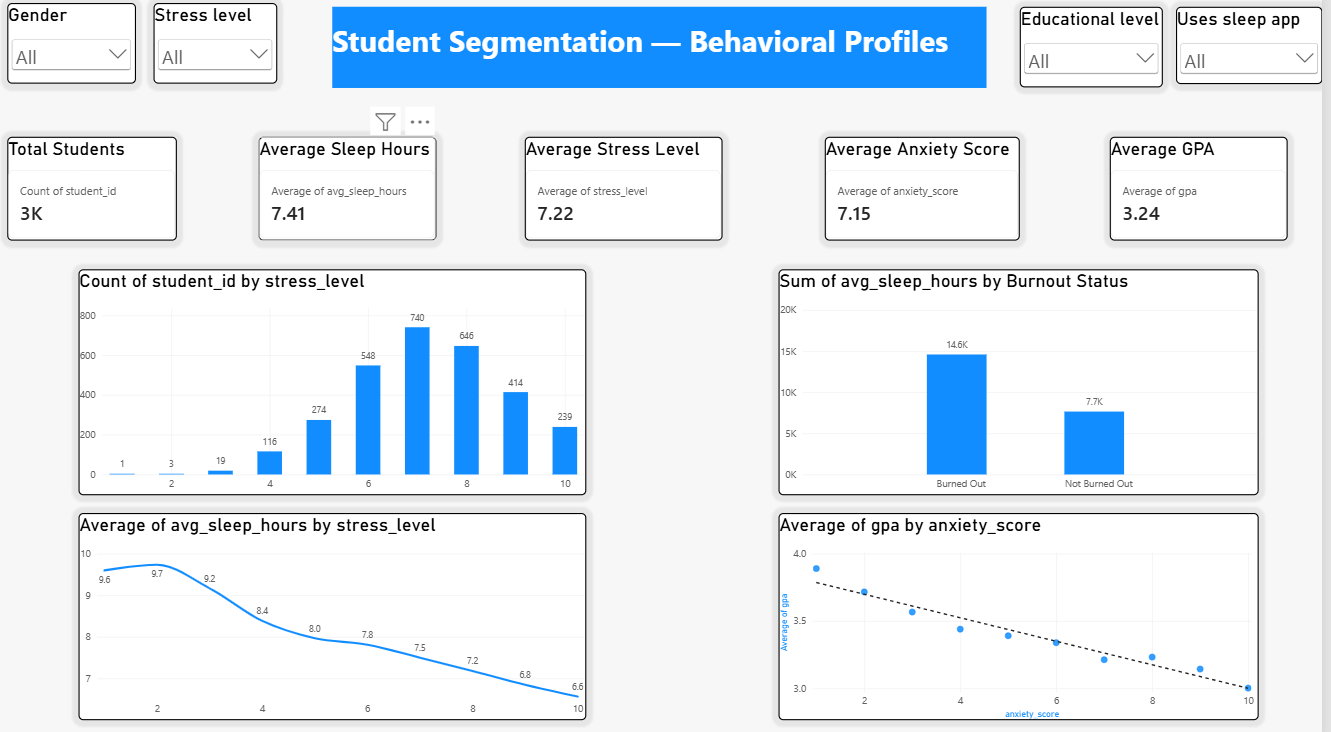

The page's visual inventory and layout, read from the dashboard file:
{"tool":"powerbi","page":{"name":"Student Segmentation","canvas":[1920,1080],"ordinal":4},"visuals":[{"type":"textbox","box":[487.5,20,947.5,117.5],"z":0},{"type":"slicer","title":"Gender","fields":{"Values":["student_sleep.gender","student_sleep.education_level"]},"box":[16.7,14.3,186.1,116.9],"z":1000},{"type":"slicer","title":"Stress level","fields":{"Values":["student_sleep.stress_level","student_sleep.uses_sleep_app"]},"box":[227.5,15,178.9,116.9],"z":2000},{"type":"slicer","title":"Educational level","fields":{"Values":["student_sleep.education_level"]},"box":[1482.5,20,207.6,116.9],"z":3000},{"type":"slicer","title":"Uses sleep app","fields":{"Values":["student_sleep.uses_sleep_app"]},"box":[1707.7,19.1,212.3,112.1],"z":4000},{"type":"cardVisual","title":"Average Stress Level","fields":{"Data":["Avg(student_sleep.stress_level)"]},"box":[765.9,207.6,286.3,150.3],"z":5000},{"type":"cardVisual","title":"Total Students","fields":{"Data":["CountNonNull(student_sleep.student_id)"]},"box":[16.7,207.6,245.7,150.3],"z":6000},{"type":"cardVisual","title":"Average Sleep Hours","fields":{"Data":["Avg(student_sleep.avg_sleep_hours)"]},"box":[380,207.5,257.5,150],"z":7000},{"type":"cardVisual","title":"Average Anxiety Score","fields":{"Data":["Avg(student_sleep.anxiety_score)"]},"box":[1200,207.5,282.5,150],"z":8000},{"type":"cardVisual","title":"Average GPA","fields":{"Data":["Avg(student_sleep.gpa)"]},"box":[1612.5,207.5,257.5,150],"z":9000},{"type":"clusteredColumnChart","fields":{"Category":["student_sleep.stress_level"],"Y":["CountNonNull(student_sleep.student_id)"]},"box":[120,400,735,327.5],"z":10000},{"type":"clusteredColumnChart","fields":{"Category":["student_sleep.Burnout Status"],"Y":["Sum(student_sleep.avg_sleep_hours)"]},"box":[1132.5,400,695,327.5],"z":11000},{"type":"lineChart","fields":{"Category":["student_sleep.stress_level"],"Y":["Avg(student_sleep.avg_sleep_hours)"]},"box":[120,752.5,735,300],"z":12000},{"type":"scatterChart","fields":{"X":["student_sleep.anxiety_score"],"Y":["Avg(student_sleep.gpa)"]},"box":[1132.5,752.5,695,300],"z":13000}]}

Visuals, with their boxes in screenshot pixels (x1, y1, x2, y2), scaled from the page's 1920x1080 canvas onto the 1331x732 screenshot:
textbox: bbox=[338, 14, 995, 93]
"Gender" slicer: bbox=[12, 10, 141, 89]
"Stress level" slicer: bbox=[158, 10, 282, 89]
"Educational level" slicer: bbox=[1028, 14, 1172, 93]
"Uses sleep app" slicer: bbox=[1184, 13, 1330, 89]
"Average Stress Level" cardVisual: bbox=[531, 141, 729, 243]
"Total Students" cardVisual: bbox=[12, 141, 182, 243]
"Average Sleep Hours" cardVisual: bbox=[263, 141, 442, 242]
"Average Anxiety Score" cardVisual: bbox=[832, 141, 1028, 242]
"Average GPA" cardVisual: bbox=[1118, 141, 1296, 242]
clusteredColumnChart - student_sleep.stress_level x CountNonNull(student_sleep.student_id): bbox=[83, 271, 593, 493]
clusteredColumnChart - student_sleep.Burnout Status x Sum(student_sleep.avg_sleep_hours): bbox=[785, 271, 1267, 493]
lineChart - student_sleep.stress_level x Avg(student_sleep.avg_sleep_hours): bbox=[83, 510, 593, 713]
scatterChart - student_sleep.anxiety_score x Avg(student_sleep.gpa): bbox=[785, 510, 1267, 713]
